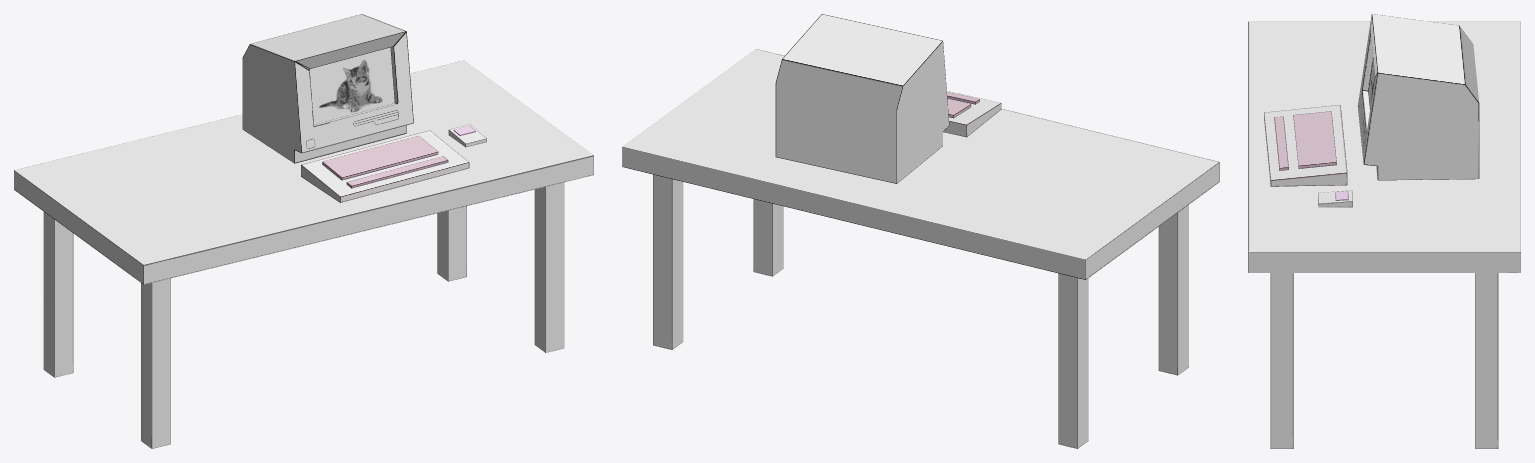
Rendered from newtable02.gltf.
The picture shows the model from 3 angles, left to right: view 1: azimuth 30°, elevation 25°; view 2: azimuth 150°, elevation 25°; view 3: azimuth 270°, elevation 25°; orthographic projection. The views are drawn at different scales.
Parts seen in each view (by area): view 1: Table, Monitor, Keyboard, Screen, Mouse; view 2: Table, Monitor, Keyboard; view 3: Table, Monitor, Keyboard, Mouse.
Part boxes in pixels (bbox=[...]): Table: bbox=[14, 60, 593, 448]; Monitor: bbox=[242, 14, 413, 163]; Keyboard: bbox=[301, 130, 469, 202]; Screen: bbox=[309, 47, 394, 124]; Mouse: bbox=[448, 124, 486, 147]; Table: bbox=[622, 49, 1219, 448]; Monitor: bbox=[775, 14, 949, 183]; Keyboard: bbox=[943, 91, 1001, 137]; Table: bbox=[1248, 21, 1520, 448]; Monitor: bbox=[1358, 14, 1479, 180]; Keyboard: bbox=[1264, 105, 1347, 186]; Mouse: bbox=[1318, 190, 1352, 207].
Size of the model in its own units: 110 by 71.6 by 55.12.
9 materials, 9 textured.
